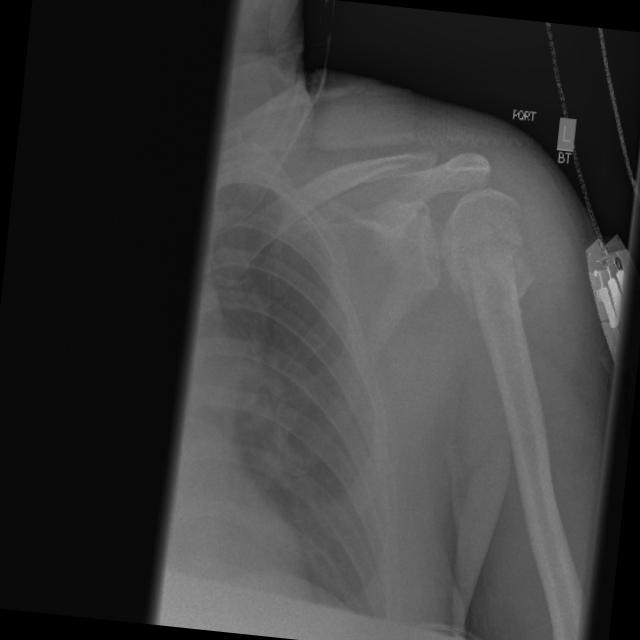shoulder fracture: (375, 139, 462, 200), (496, 228, 557, 309)
